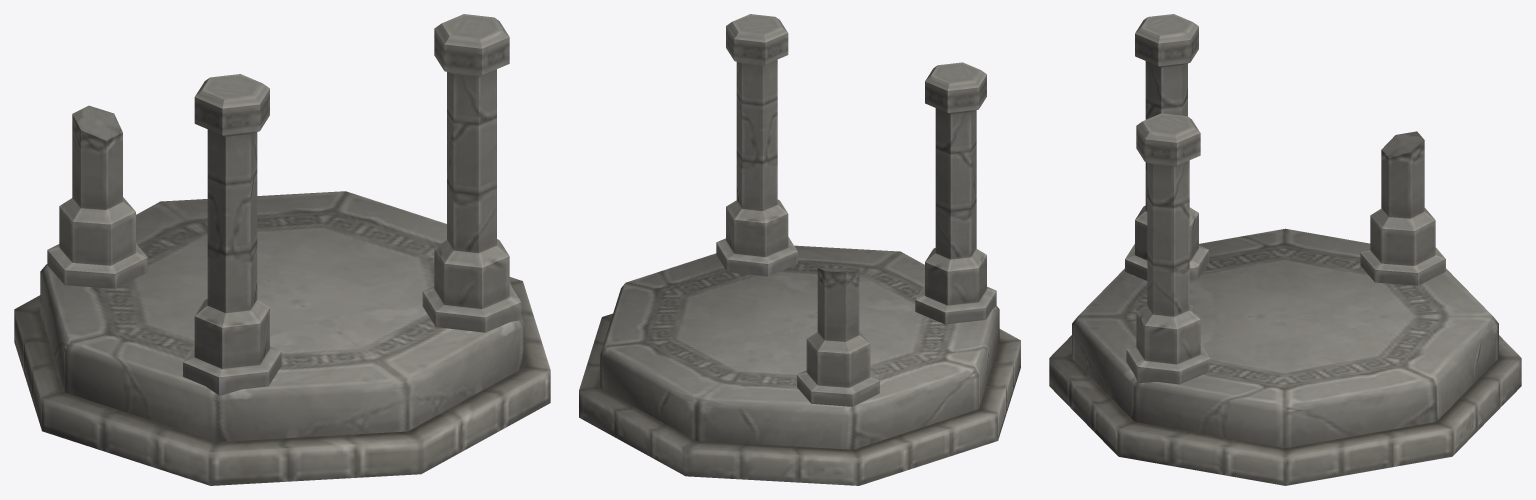
File: all_mine_prop_4.FBX
The picture shows the model from 3 angles, left to right: view 1: azimuth 30°, elevation 25°; view 2: azimuth 150°, elevation 25°; view 3: azimuth 270°, elevation 25°; orthographic projection. The views are drawn at different scales.
Parts seen in each view (by area): view 1: all_mine_prop_4; view 2: all_mine_prop_4; view 3: all_mine_prop_4.
Boxes of the visible parts, x1=… form: all_mine_prop_4: x1=14, y1=14, x2=550, y2=485; all_mine_prop_4: x1=579, y1=14, x2=1020, y2=485; all_mine_prop_4: x1=1049, y1=14, x2=1521, y2=485.
Bounding box in the file's own units: 155 × 113 × 155.
